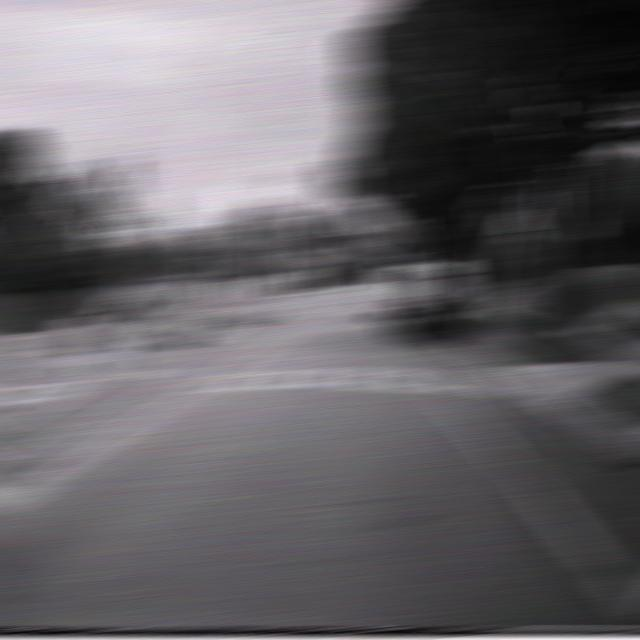pedestrianCrossing: (95, 142, 148, 212)
